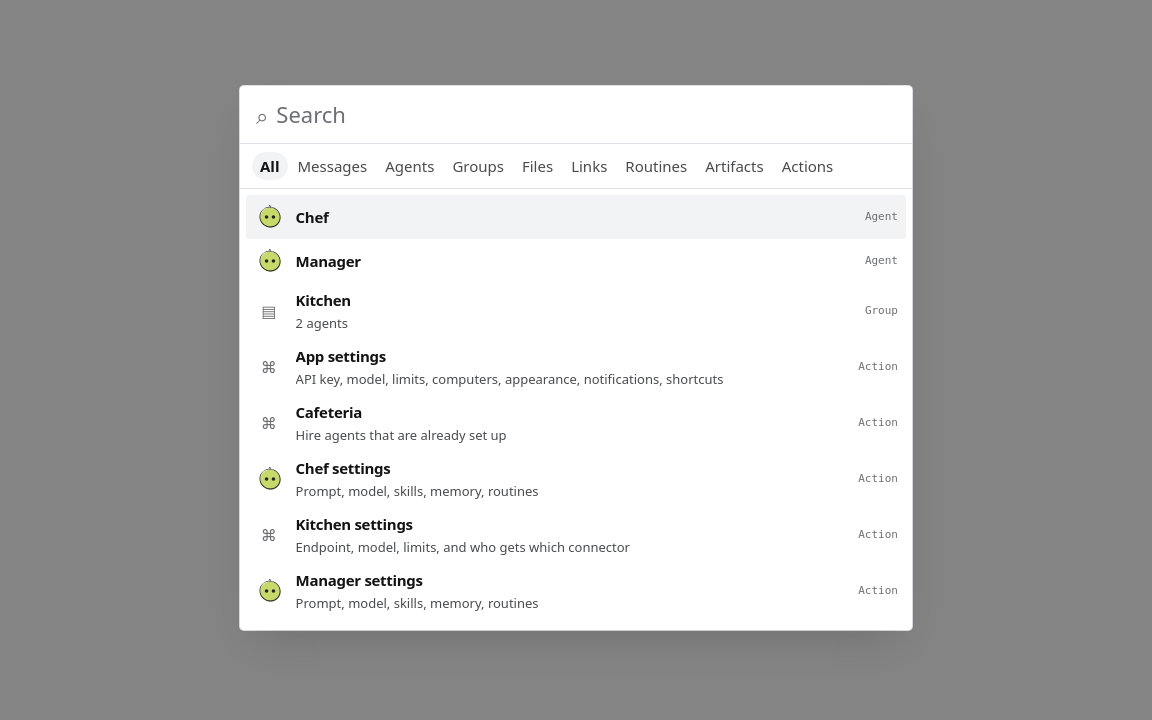
Test: Search › narrows as the operator types, without waiting for the store
Expected: the text "Manager" is shown, [296,251,361,271]
Expected: the text "Chef" is shown, [296,207,328,227]
Type "chef" into the field named "search the workspace" at (586, 115), box [276,98,896,131]
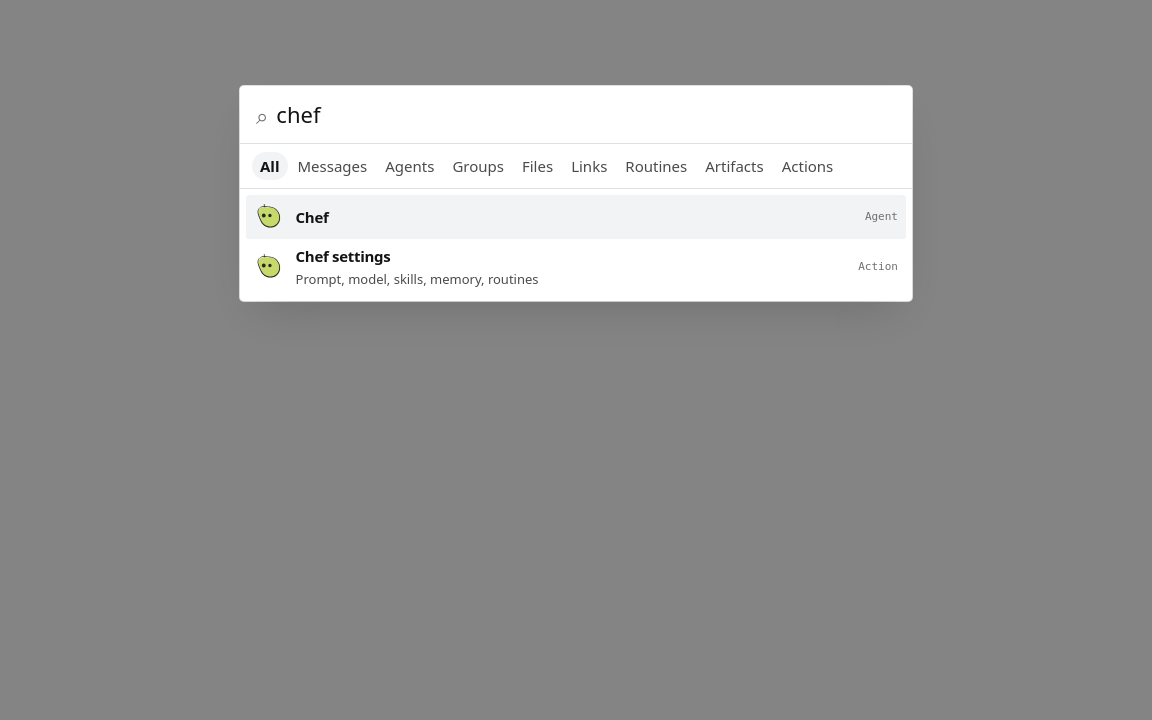
Expected: the text "Chef" is shown, [296,207,328,227]
Expected: the button "Manager" is gone
